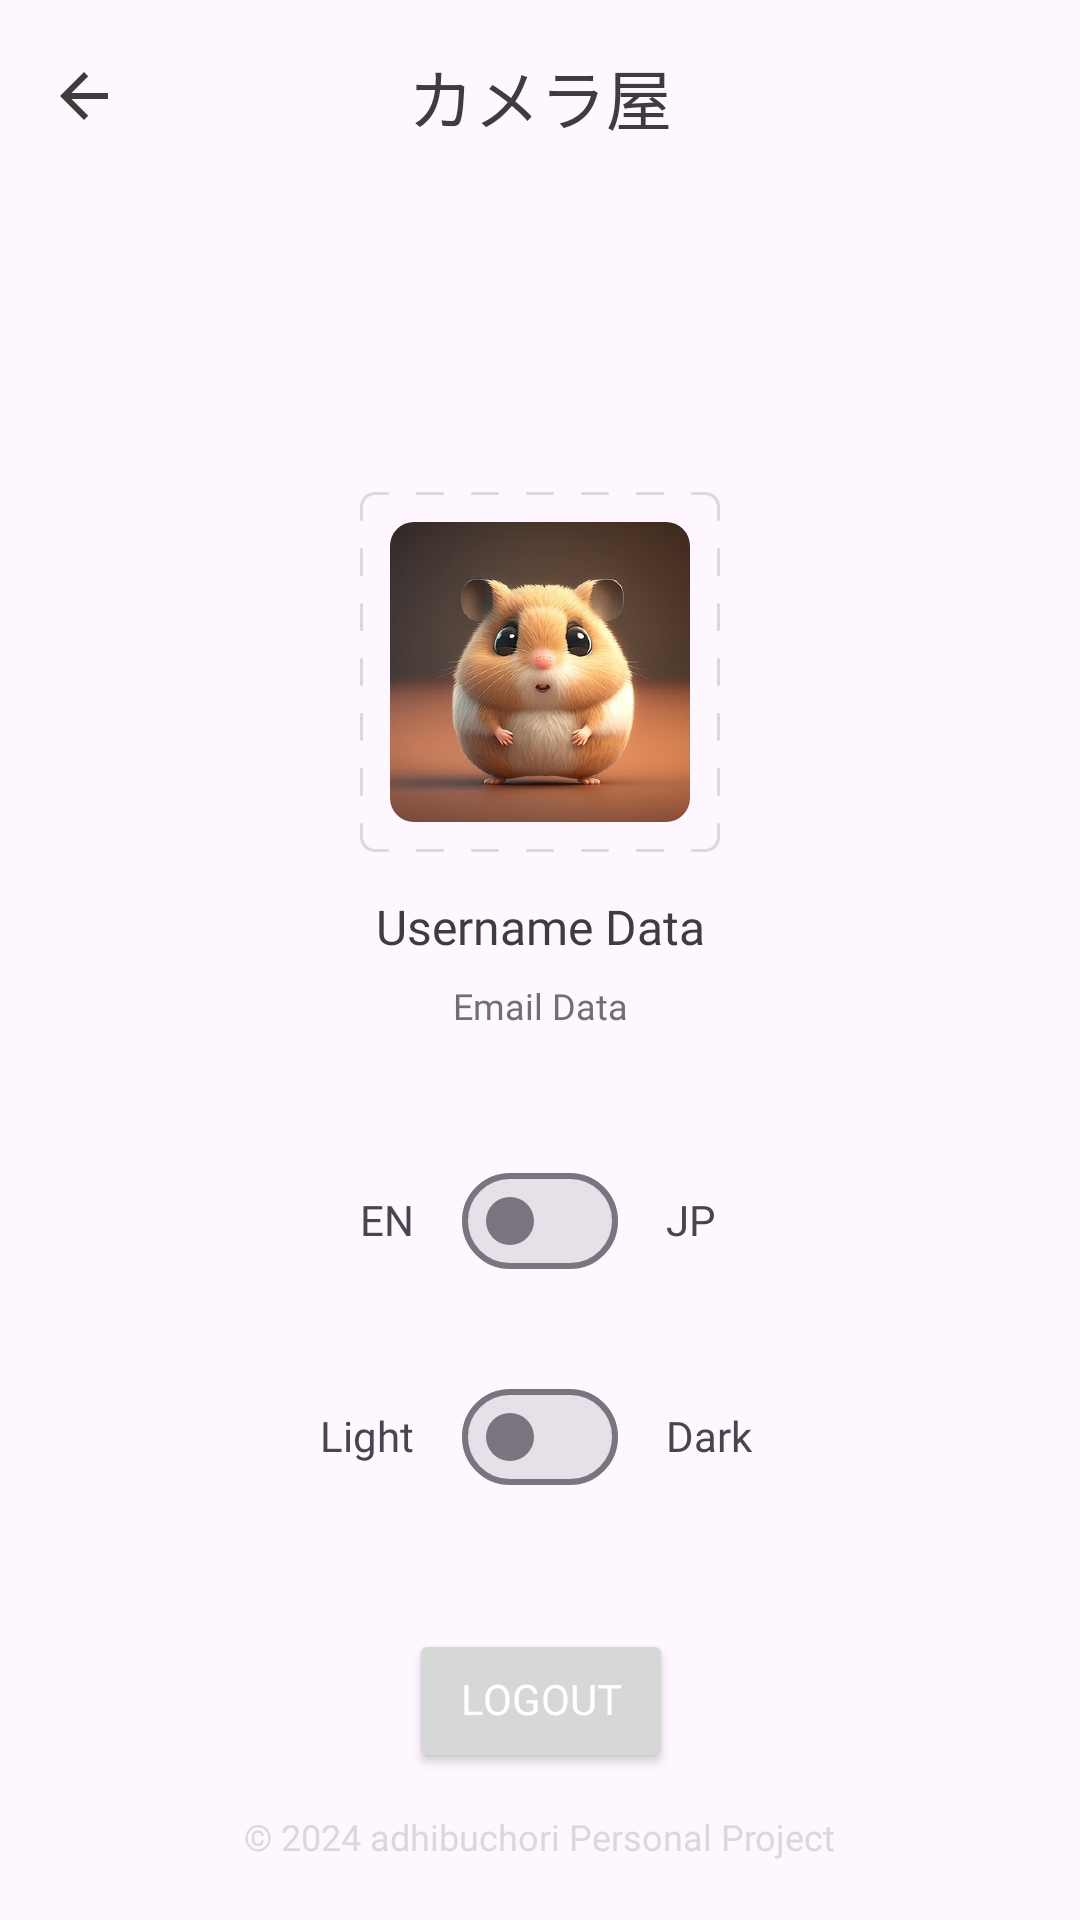

Icon click points for this 1080px x 1920px phone screenshot, format (x,y):
Arrow Back Icon: (84,96)
